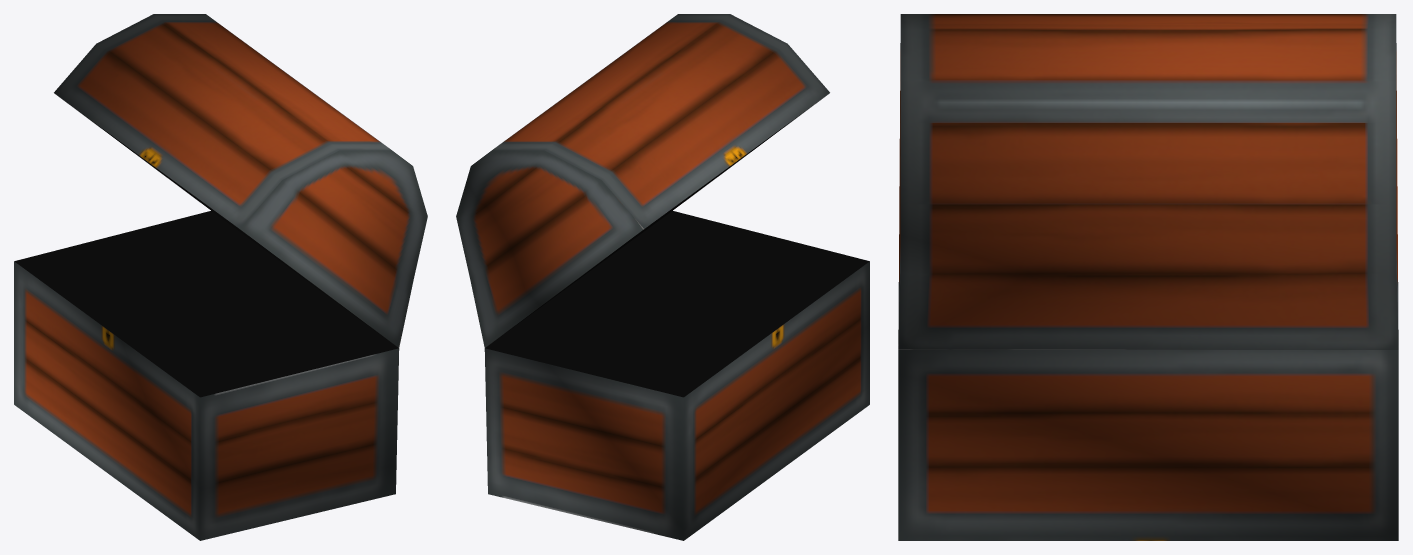
The model's file is cofrenormal_000005.obj.
The picture shows the model from 3 angles, left to right: view 1: azimuth 30°, elevation 25°; view 2: azimuth 150°, elevation 25°; view 3: azimuth 270°, elevation 25°; orthographic projection. The views are drawn at different scales.
Parts seen in each view (by area): view 1: cofre; view 2: cofre; view 3: cofre.
Boxes of the visible parts, x1,y1,x2,y2 form: cofre: [14, 14, 427, 540]; cofre: [456, 14, 869, 540]; cofre: [898, 14, 1398, 540].
Size of the model in its own units: 4.43 by 6.63 by 6.34.
